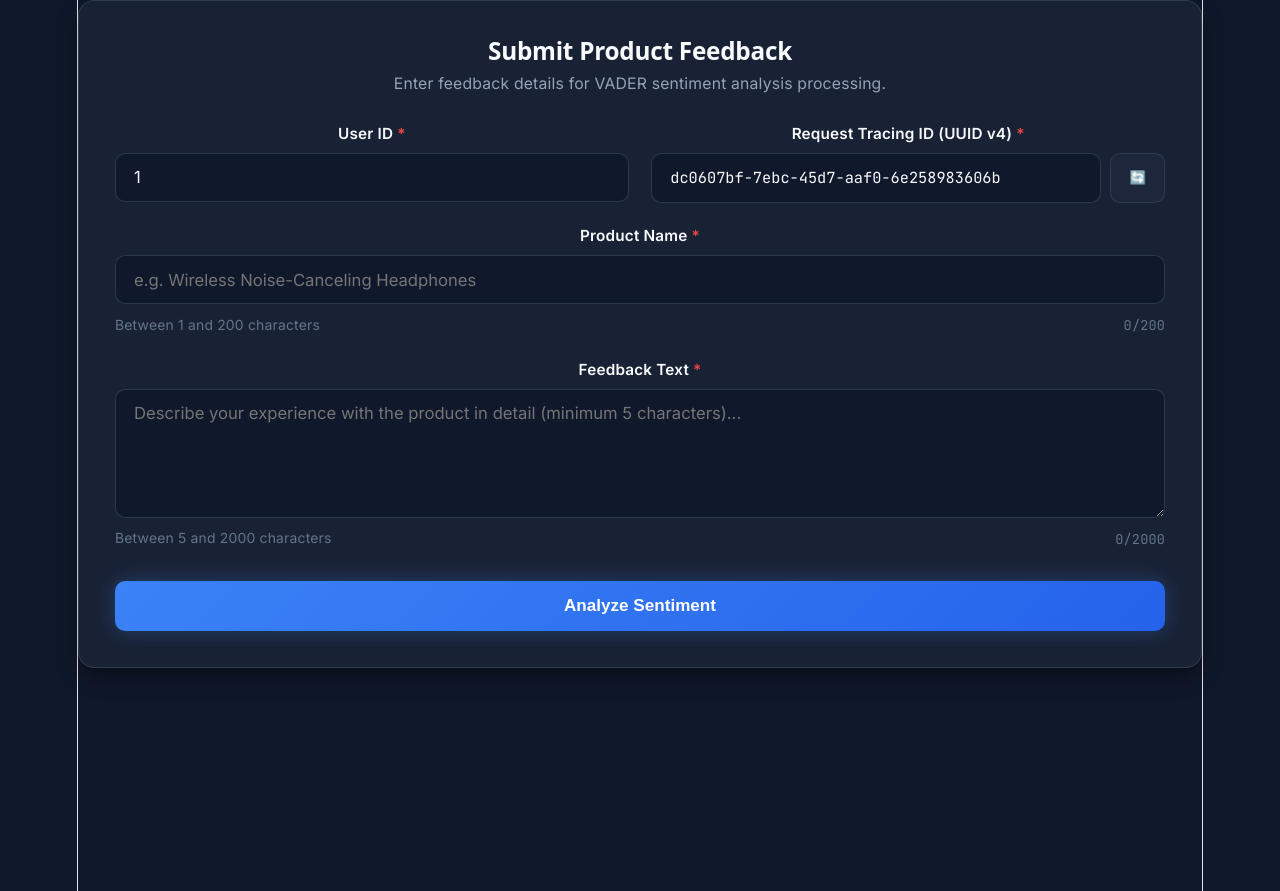
<FeedbackForm /> Component › submits valid data successfully and renders sentiment result
The width and height of the screenshot is (1280, 891).
Replace the text in the number field labelled "User ID *" with "42": (372, 177) [115,153,629,202]
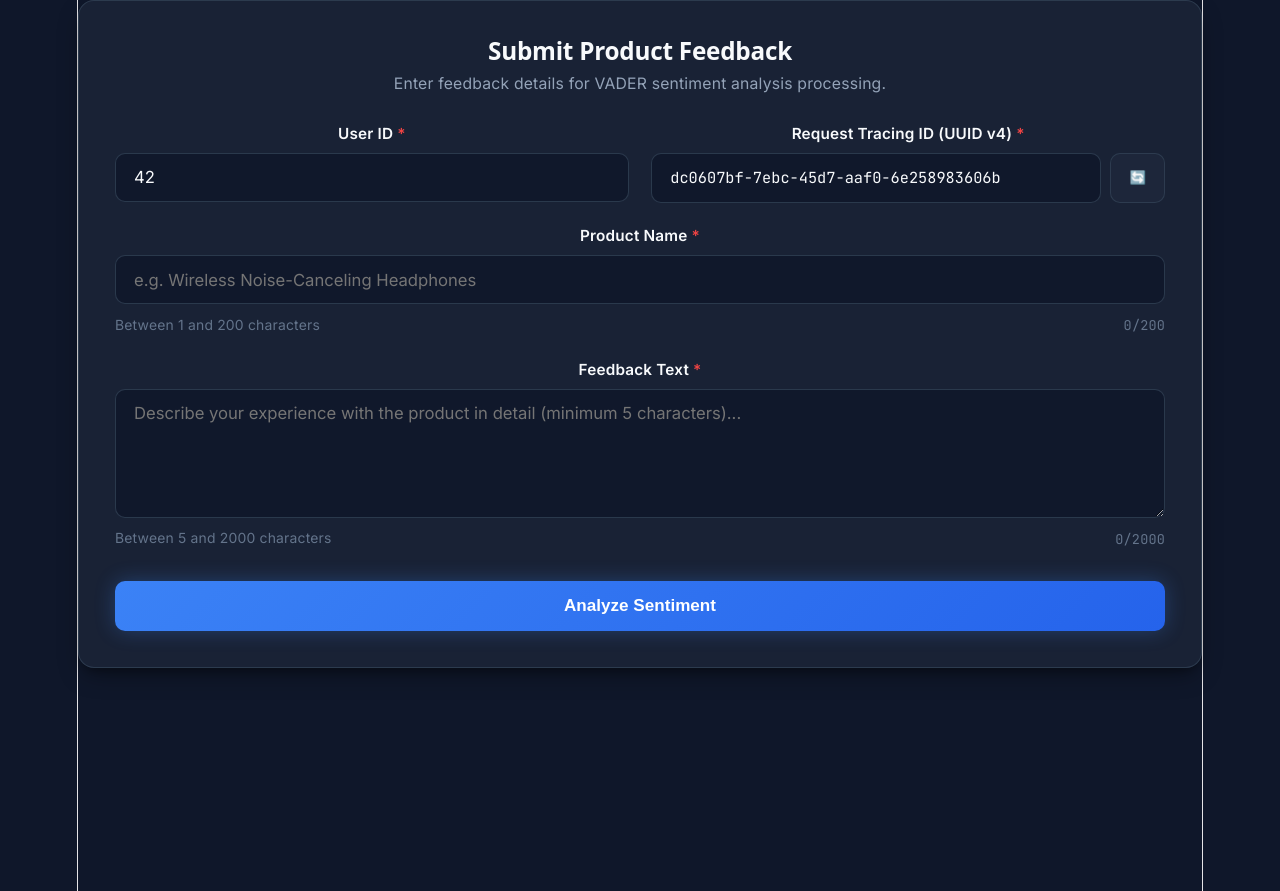
In the field labelled "Product Name *": (640, 280) [115,255,1165,304], type "Super Gadget"
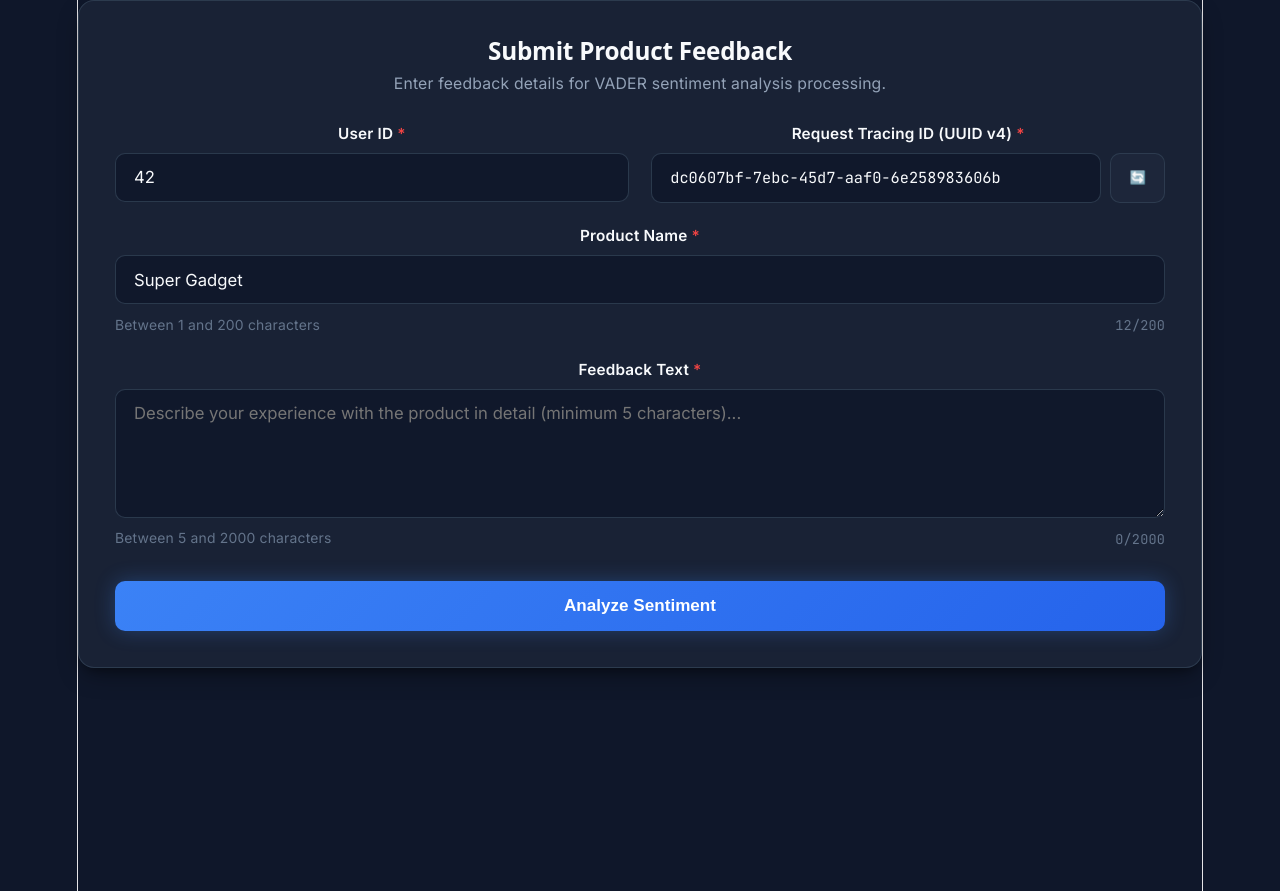
Replace the text in the text box labelled "Feedback Text *" with "This is an awesome gadget! I really enjoy using it.": (640, 453) [115,389,1165,518]
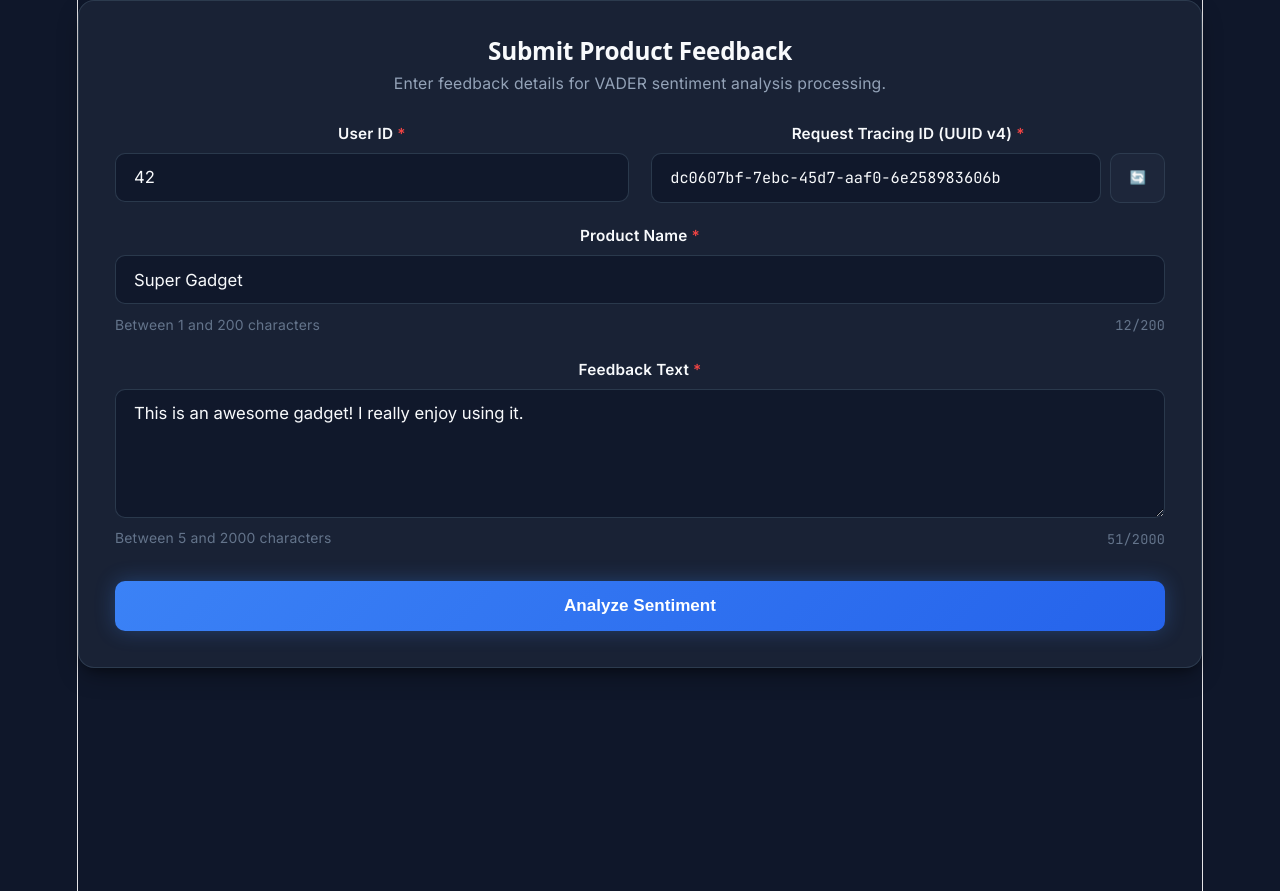
Click the button "Analyze Sentiment": (640, 606) [115,581,1165,632]
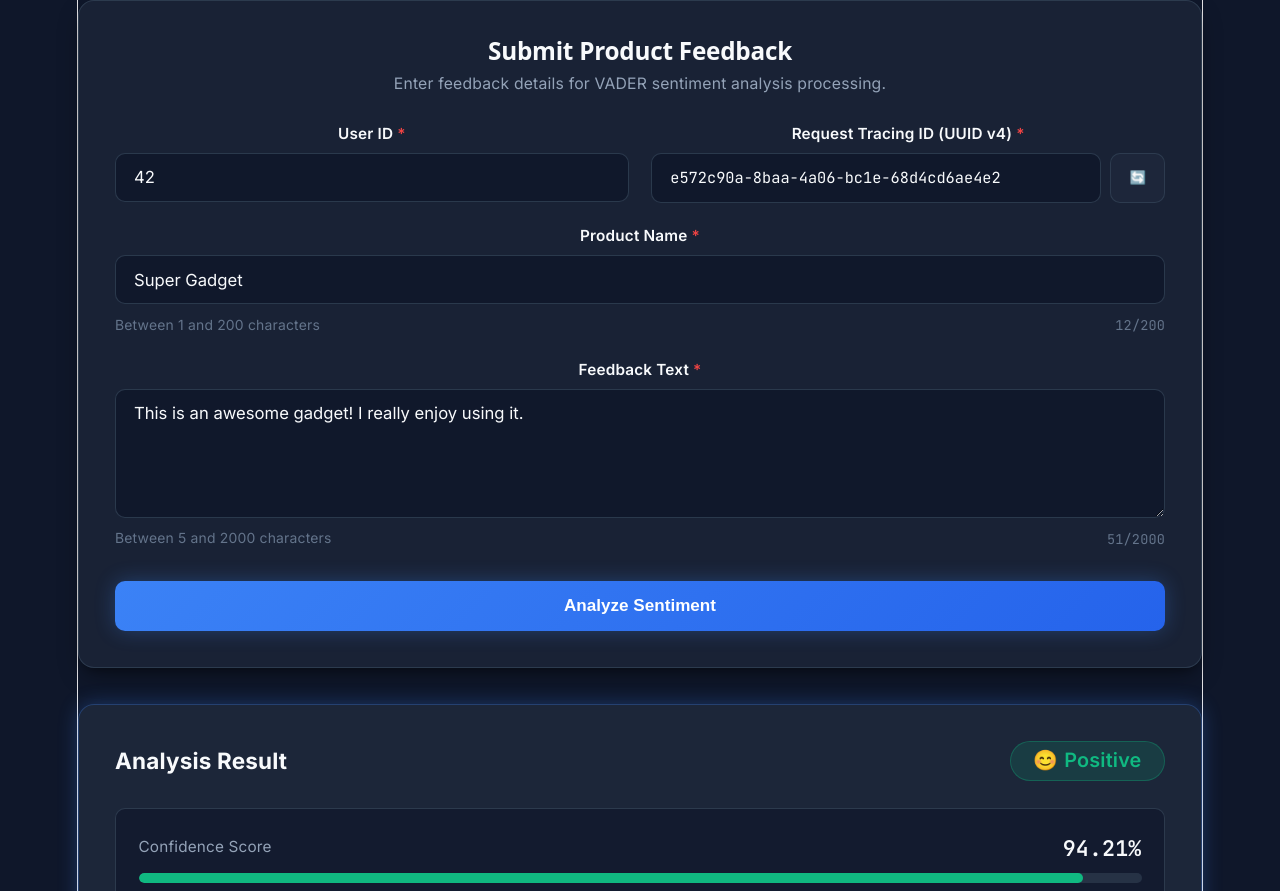
Now the heading "Analysis Result" is shown, box [115,744,287,778]
Now the text "Positive" is shown, box [1064,752,1142,771]
Now the text "94.21%" is shown, box [1063,832,1142,864]
